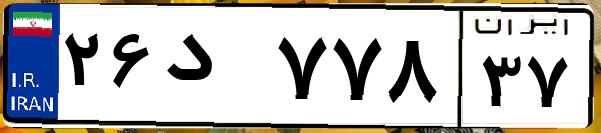2: (57, 26, 110, 100)
3: (475, 38, 525, 113)
6: (110, 28, 158, 98)
7: (270, 28, 330, 110), (330, 28, 385, 110), (525, 38, 570, 115)
8: (385, 28, 445, 110)
د: (158, 20, 270, 120)
